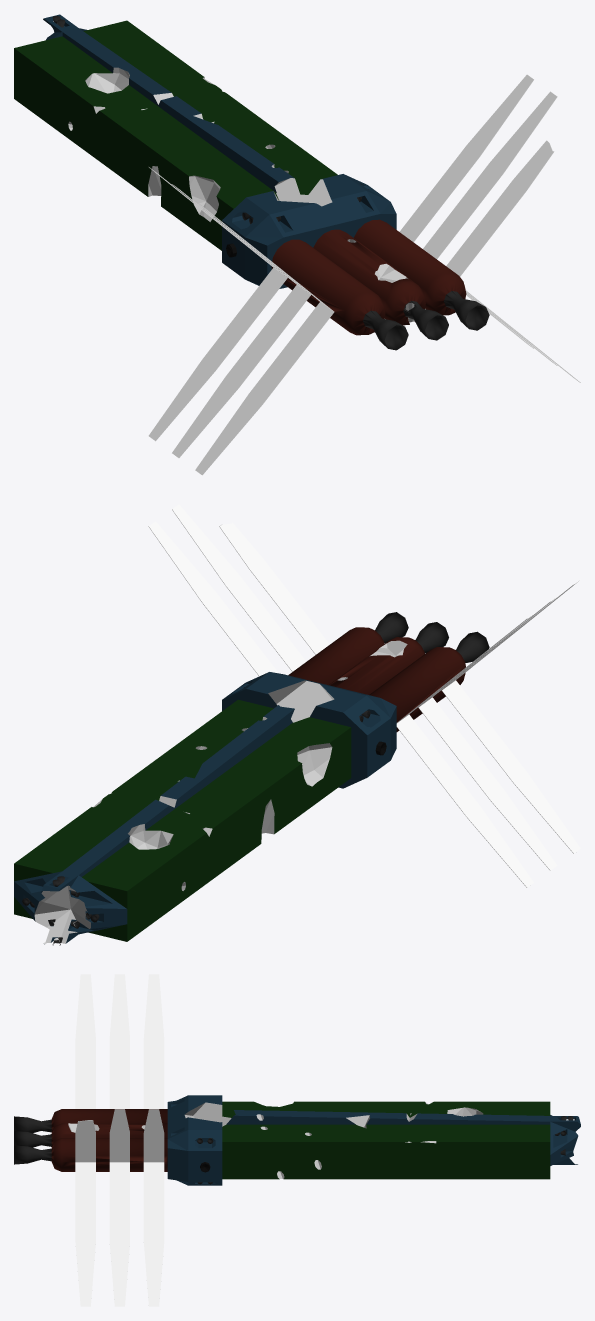
The model's file is FreightorNewWreck.obj.
The picture shows the model from 3 angles, top to bottom: view 1: azimuth 30°, elevation 25°; view 2: azimuth 150°, elevation 25°; view 3: azimuth 270°, elevation 25°; orthographic projection. The views are drawn at different scales.
Visible parts, largest first — view 1: Main_Hull; view 2: Main_Hull; view 3: Main_Hull.
Boxes of the visible parts, left/top/right/bottom form: Main_Hull: left=14, top=14, right=580, bottom=475; Main_Hull: left=14, top=504, right=580, bottom=945; Main_Hull: left=14, top=974, right=580, bottom=1306.
Bounding box in the file's own units: 93.71 × 63.71 × 166.
